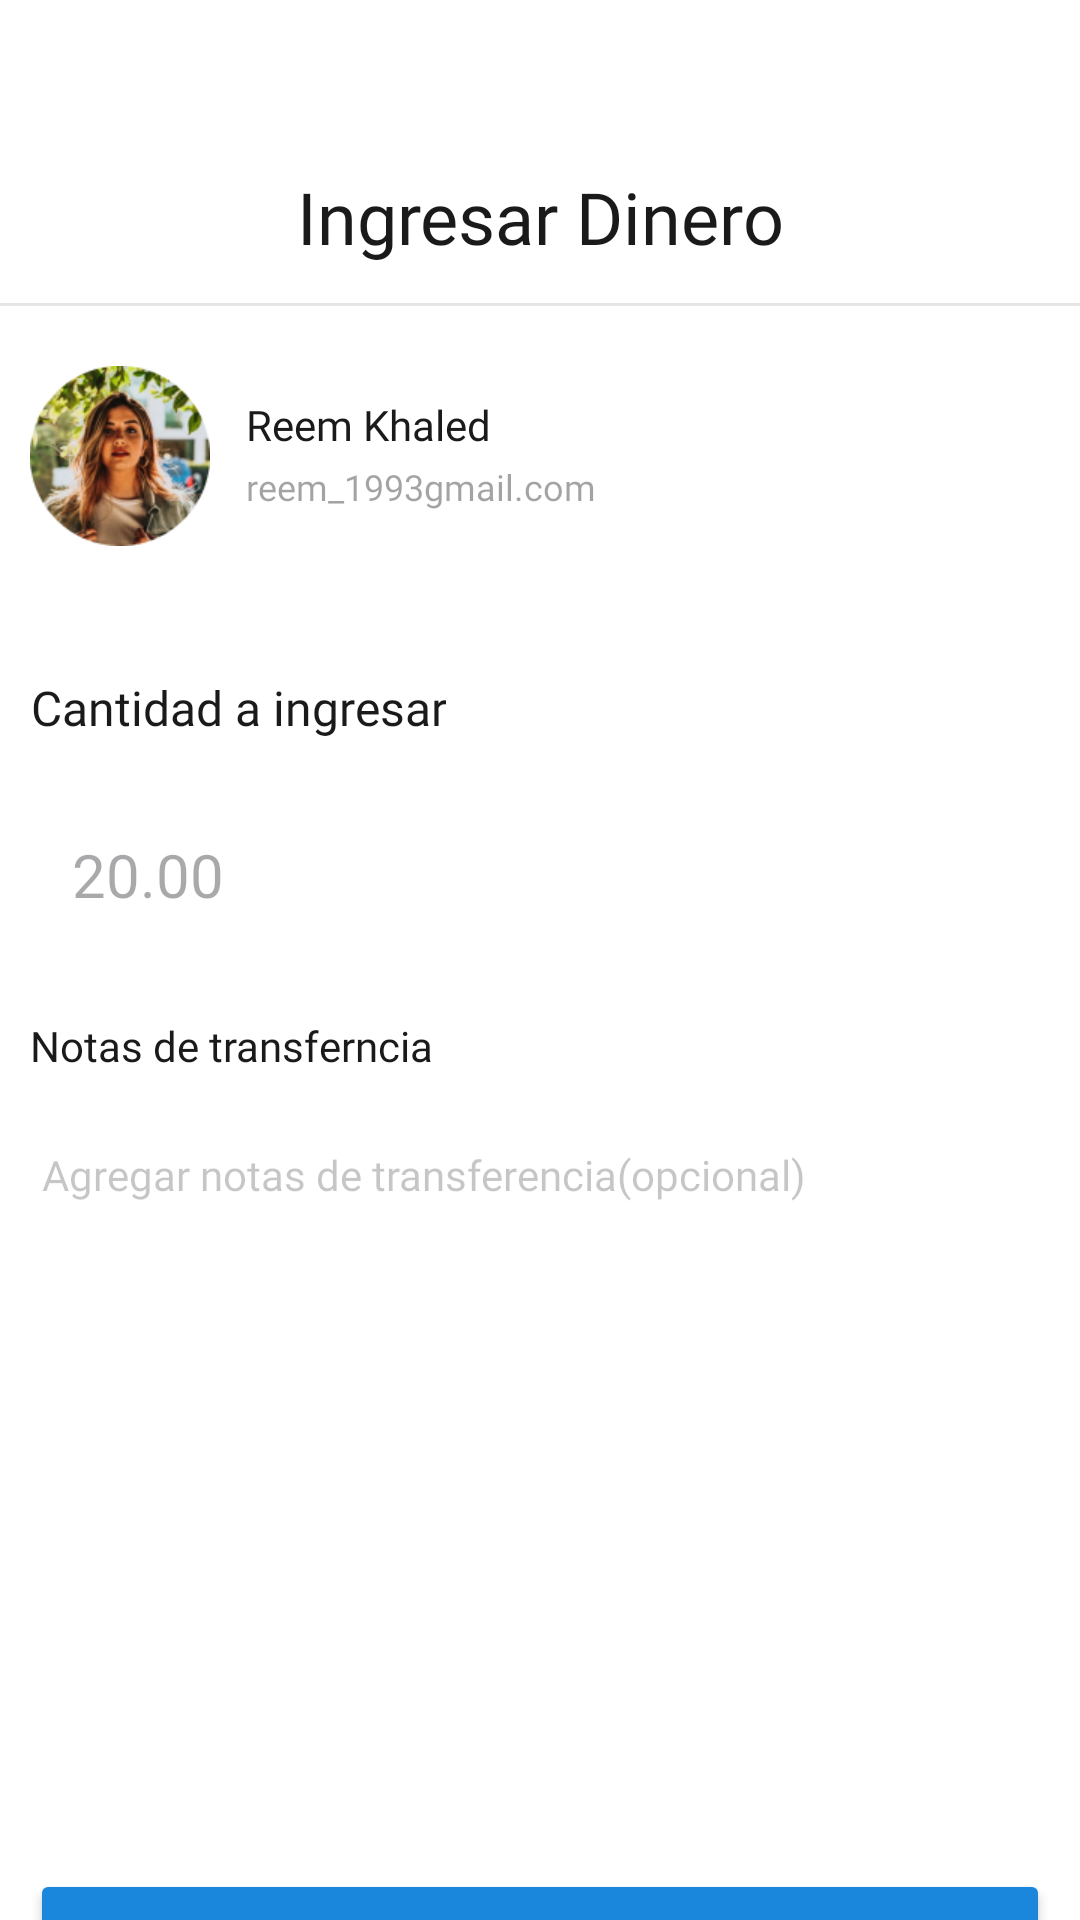

Locate icon controls on the screen. Image size 1080w x 1920h, boxes as (x1, y1, x2, y2).
user profile pic: (30, 366, 210, 546)
